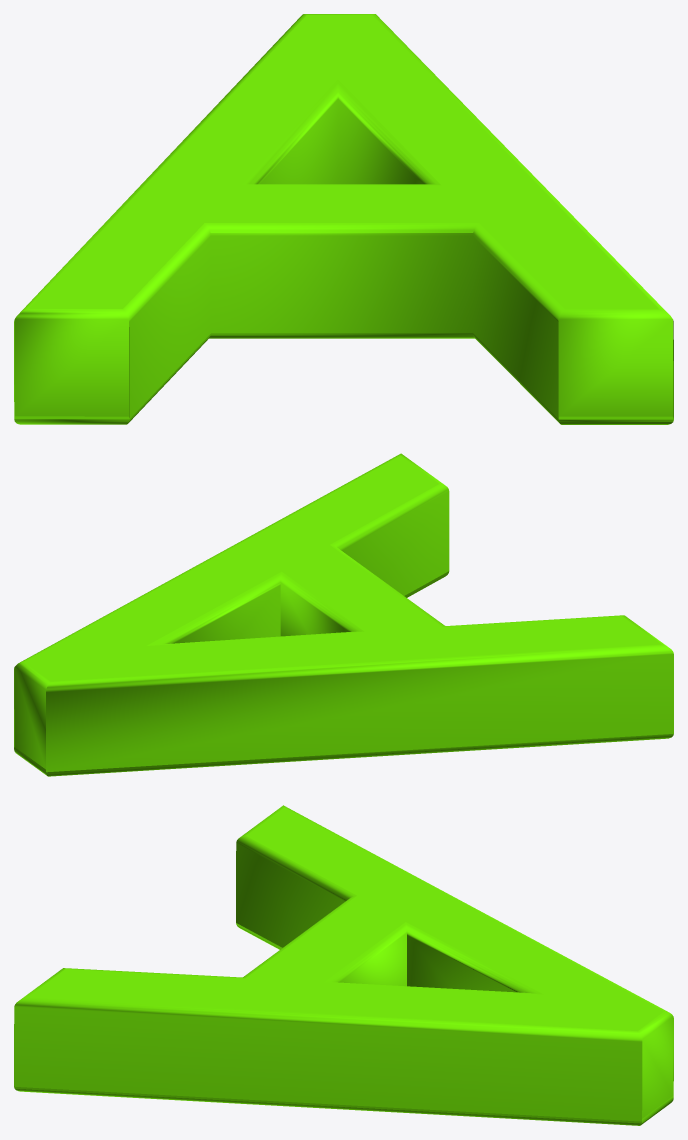
The model's file is Toy86.fbx.
The picture shows the model from 3 angles, top to bottom: view 1: azimuth 30°, elevation 25°; view 2: azimuth 150°, elevation 25°; view 3: azimuth 270°, elevation 25°; orthographic projection. The views are drawn at different scales.
Visible parts, largest first — view 1: Toy86; view 2: Toy86; view 3: Toy86.
Part boxes in pixels (bbox=[...]): Toy86: bbox=[14, 14, 673, 424]; Toy86: bbox=[14, 453, 673, 776]; Toy86: bbox=[14, 805, 673, 1125].
Size of the model in its own units: 0.137 by 0.0259 by 0.1638.
